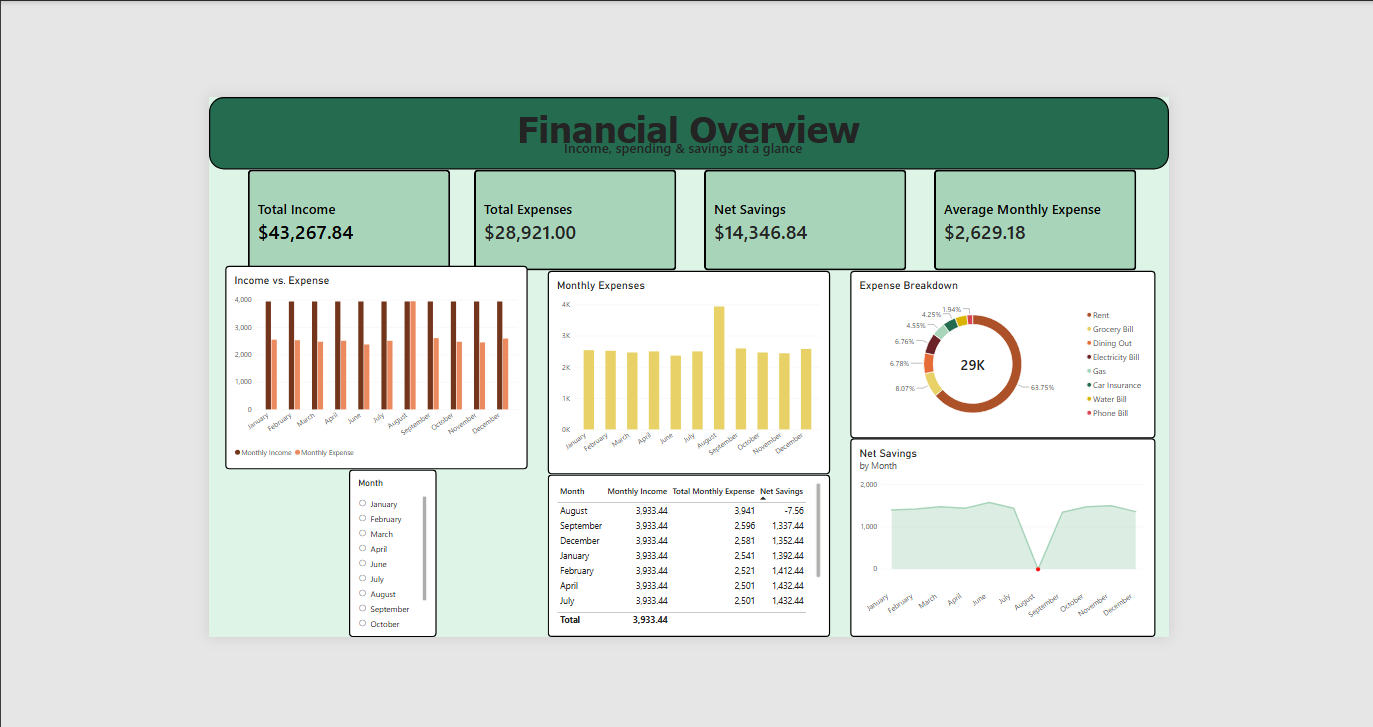

Layout of this report page (visuals, bound fields, positions):
{"tool":"powerbi","page":{"name":"Financial Overview","canvas":[1920,1080],"ordinal":0},"visuals":[{"type":"cardVisual","fields":{"Data":["Sum(Income.Average Income/Wage)"]},"box":[77.5,145,405,202.5],"z":0},{"type":"cardVisual","fields":{"Data":["Sum(Monthly_Expenses.Net Savings)"]},"box":[990,145,405,202.5],"z":1000},{"type":"cardVisual","fields":{"Data":["Sum(Monthly_Expenses.Total Monthly Expense)"]},"box":[530,145,405,202.5],"z":2000},{"type":"cardVisual","fields":{"Data":["Avg(Monthly_Expenses.Total Monthly Expense)"]},"box":[1450,145,405,202.5],"z":3000},{"type":"clusteredColumnChart","title":"Income vs. Expense","fields":{"Category":["Monthly_Expenses.Monthly Expenses"],"Y":["Sum(Income.Average Income/Wage)","Sum(Monthly_Expenses.Total Monthly Expense)"]},"box":[32.5,337.5,605,407.5],"z":4000},{"type":"stackedAreaChart","title":"Net Savings ","fields":{"Category":["Monthly_Expenses.Monthly Expenses"],"Y":["Sum(Monthly_Expenses.Net Savings)"]},"box":[1282.5,682.5,610,397.5],"z":5000},{"type":"listSlicer","fields":{"Values":["Monthly_Expenses.Month"]},"box":[280,745,175,335],"z":6000},{"type":"donutChart","title":"Expense Breakdown","fields":{"Category":["Expense Category Analysis.Expense Category"],"Y":["Sum(Expense Category Analysis.Expense Amount)"]},"box":[1282.5,347.5,610,335],"z":7000},{"type":"textbox","box":[0,0,1920,145],"z":8000},{"type":"tableEx","fields":{"Values":["Monthly_Expenses.Month","Sum(Income.Average Income/Wage)","Monthly_Expenses.Total Monthly Expense","Monthly_Expenses.Net Savings"]},"box":[677.5,755,565,325],"z":9000},{"type":"clusteredColumnChart","title":" Monthly Expenses","fields":{"Category":["Monthly_Expenses.Month"],"Y":["Sum(Monthly_Expenses.Total Monthly Expense)"]},"box":[677.5,347.5,565,407.5],"z":10000},{"type":"textbox","box":[710,82.5,572.5,62.5],"z":11000}]}

Visuals, with their boxes on the page's 1920x1080 design canvas (x1, y1, x2, y2). These are canvas units, not pixel positions in the 1373x727 screenshot, which may show the page scaled, cropped or inside an application window:
cardVisual - Sum(Income.Average Income/Wage): select_region(78, 145, 482, 348)
cardVisual - Sum(Monthly_Expenses.Net Savings): select_region(990, 145, 1395, 348)
cardVisual - Sum(Monthly_Expenses.Total Monthly Expense): select_region(530, 145, 935, 348)
cardVisual - Avg(Monthly_Expenses.Total Monthly Expense): select_region(1450, 145, 1855, 348)
"Income vs. Expense" clusteredColumnChart: select_region(32, 338, 638, 745)
"Net Savings " stackedAreaChart: select_region(1282, 682, 1892, 1080)
listSlicer - Monthly_Expenses.Month: select_region(280, 745, 455, 1080)
"Expense Breakdown" donutChart: select_region(1282, 348, 1892, 682)
textbox: select_region(0, 0, 1920, 145)
tableEx - Monthly_Expenses.Month x Sum(Income.Average Income/Wage): select_region(678, 755, 1242, 1080)
" Monthly Expenses" clusteredColumnChart: select_region(678, 348, 1242, 755)
textbox: select_region(710, 82, 1282, 145)
